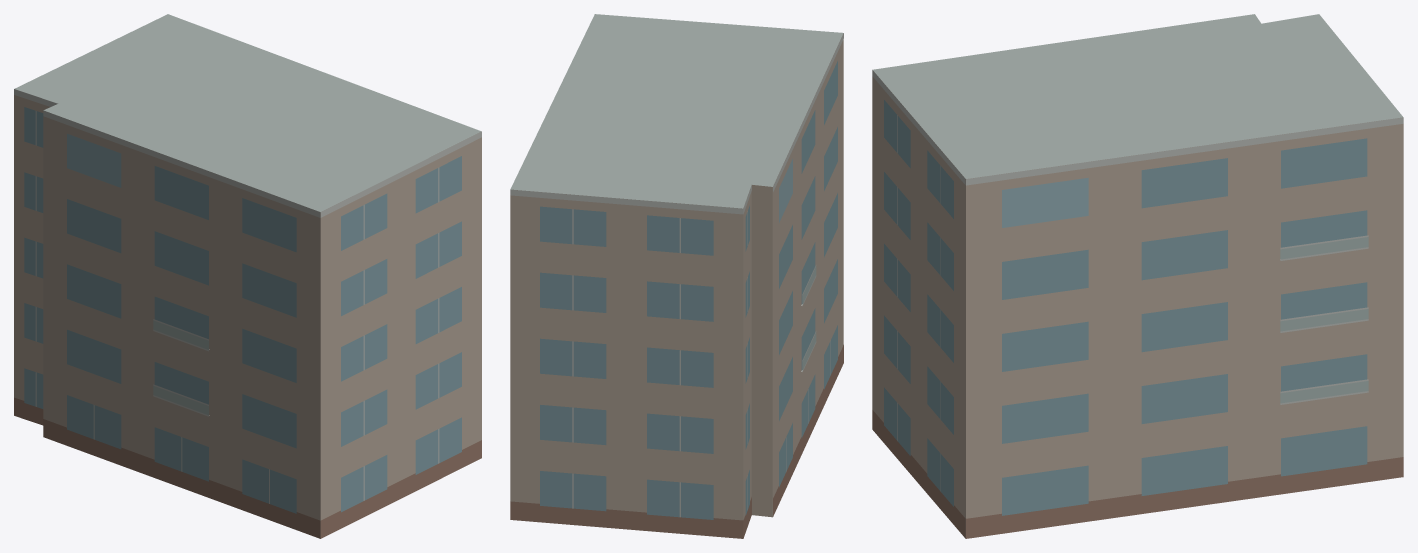
File: survey-upis-32723474.glb
3 renders of one model, left to right at view 1: azimuth 30°, elevation 25°; view 2: azimuth 150°, elevation 25°; view 3: azimuth 270°, elevation 25°, orthographic. The views are drawn at different scales.
Visible parts, largest first — view 1: survey-upis-32723474.tmp; view 2: survey-upis-32723474.tmp; view 3: survey-upis-32723474.tmp.
Part boxes in pixels (x1=…): survey-upis-32723474.tmp: x1=14, y1=14, x2=481, y2=538; survey-upis-32723474.tmp: x1=510, y1=14, x2=843, y2=538; survey-upis-32723474.tmp: x1=872, y1=14, x2=1403, y2=538.
Size of the model in its own units: 13.4 by 13.6 by 18.21.
